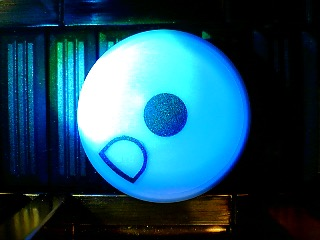BOHOMIPO1: (75, 28, 251, 204)
